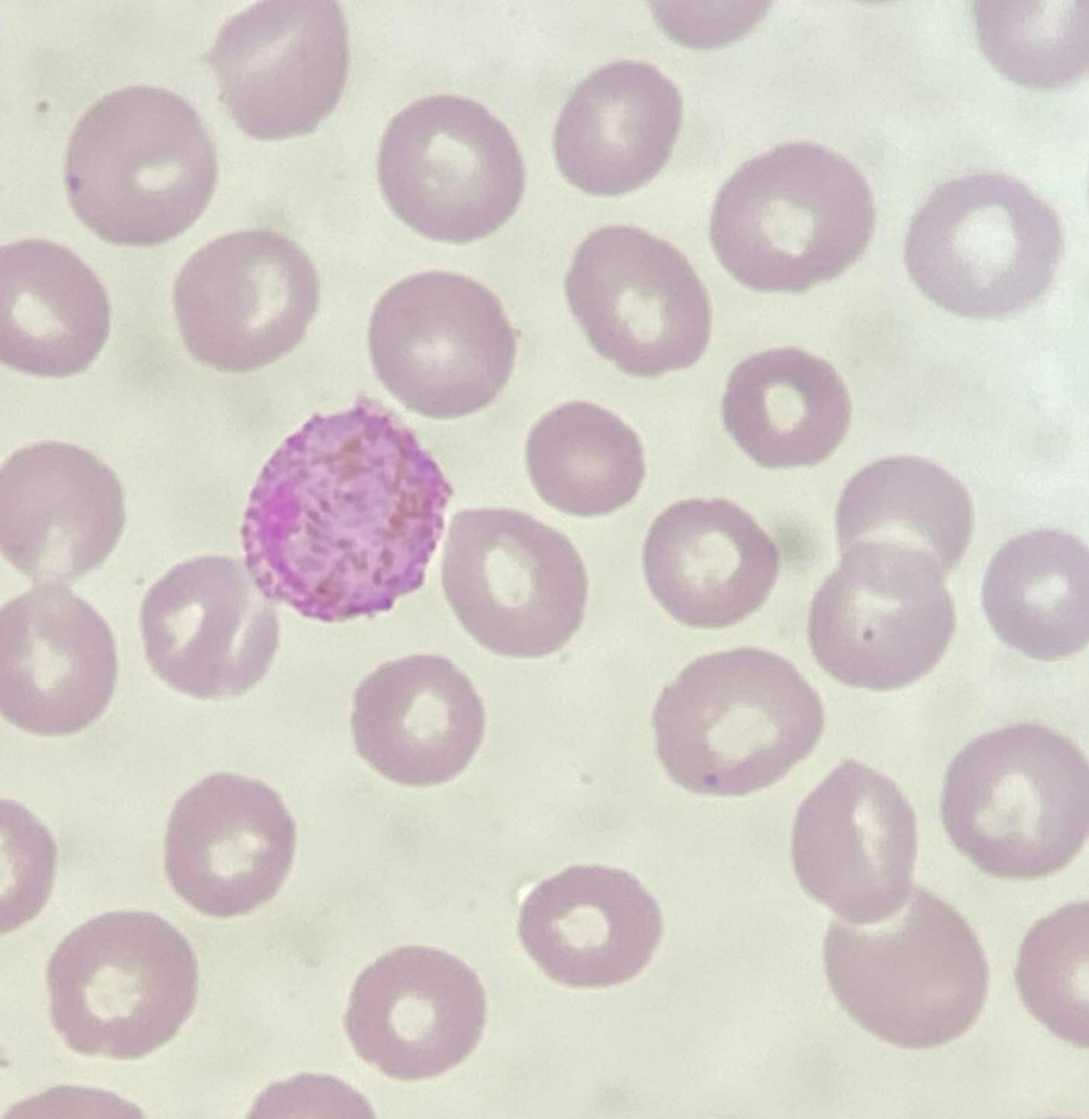Infected: (243, 399, 449, 619)
Uninfected: (826, 885, 991, 1053), (655, 644, 826, 797), (64, 84, 217, 252), (707, 146, 876, 294), (45, 909, 200, 1061), (806, 538, 957, 694), (908, 171, 1067, 319), (565, 220, 713, 378), (439, 504, 590, 658), (939, 724, 1089, 879), (375, 94, 525, 246), (791, 753, 919, 929), (171, 226, 323, 373), (367, 269, 514, 420), (138, 551, 284, 700), (204, 0, 351, 142), (832, 455, 978, 590), (344, 949, 490, 1084), (550, 61, 686, 201), (163, 774, 293, 919), (640, 497, 781, 630), (0, 442, 127, 588), (348, 654, 483, 787), (0, 584, 119, 734), (519, 864, 661, 989), (719, 348, 851, 467), (0, 240, 110, 380), (983, 525, 1089, 666), (527, 401, 646, 517)
